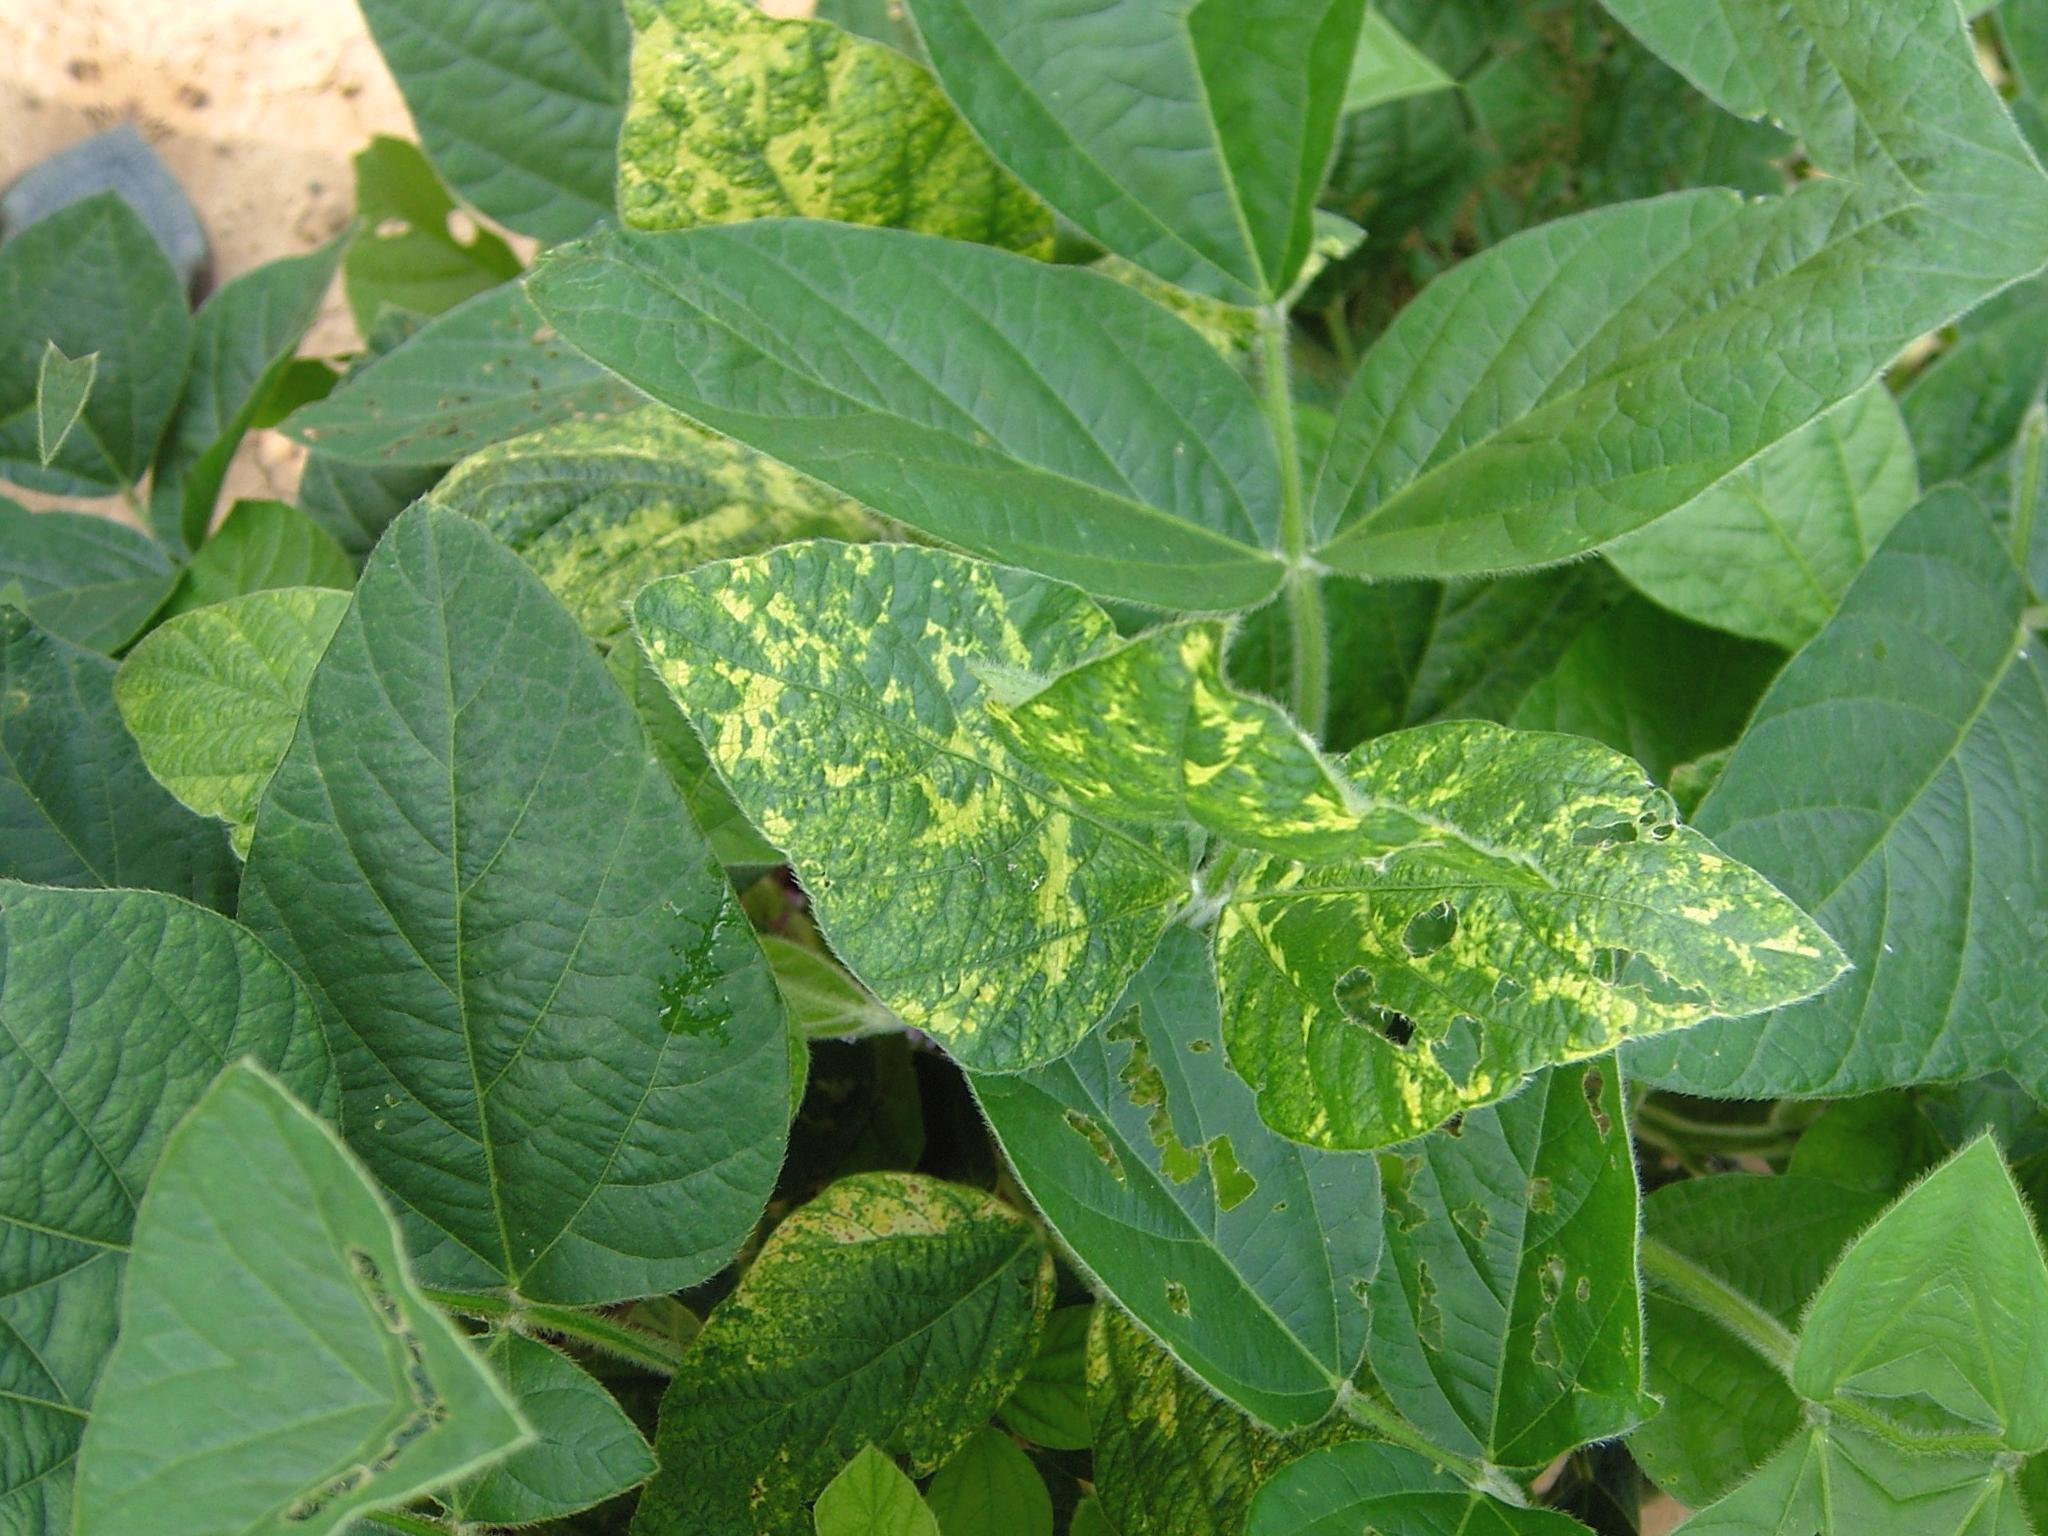Tomato leaf: (1169, 637, 1898, 1271), (513, 136, 1348, 644), (577, 510, 1243, 1094)
